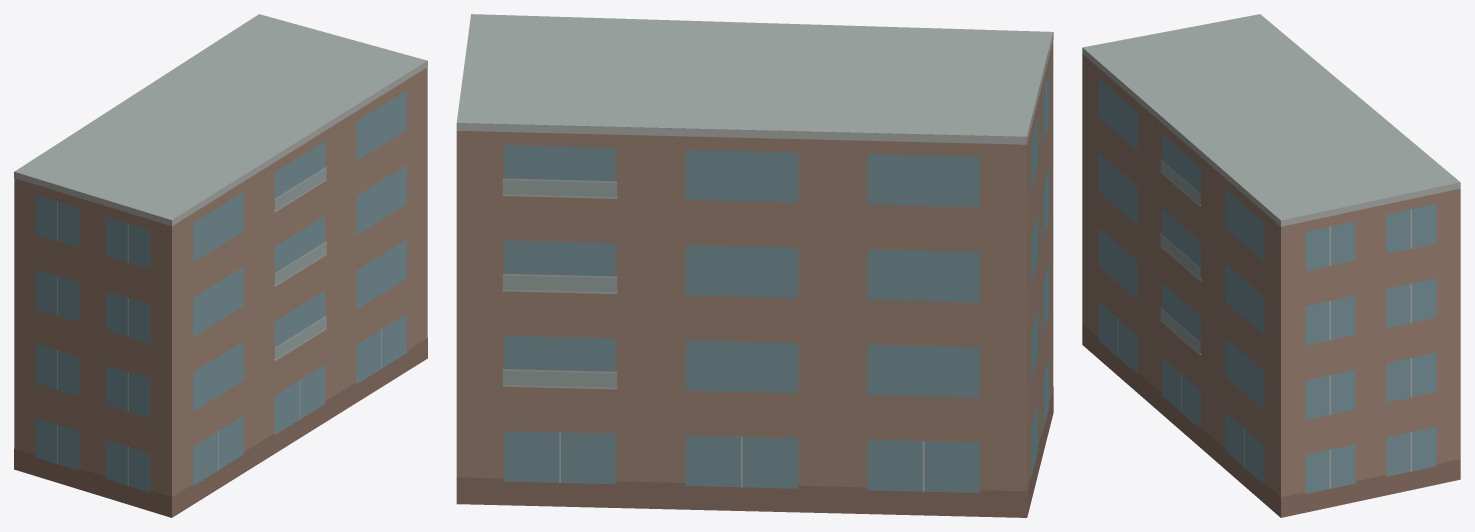
Rendered from survey-upis-32741028.glb.
3 renders of one model, left to right at view 1: azimuth 30°, elevation 25°; view 2: azimuth 150°, elevation 25°; view 3: azimuth 270°, elevation 25°, orthographic. The views are drawn at different scales.
Parts seen in each view (by area): view 1: survey-upis-32741028.tmp; view 2: survey-upis-32741028.tmp; view 3: survey-upis-32741028.tmp.
Part boxes in pixels (x1=…): survey-upis-32741028.tmp: x1=14, y1=14, x2=427, y2=517; survey-upis-32741028.tmp: x1=456, y1=14, x2=1053, y2=517; survey-upis-32741028.tmp: x1=1082, y1=14, x2=1460, y2=517.
Size of the model in its own units: 17.44 by 11.7 by 13.5.
